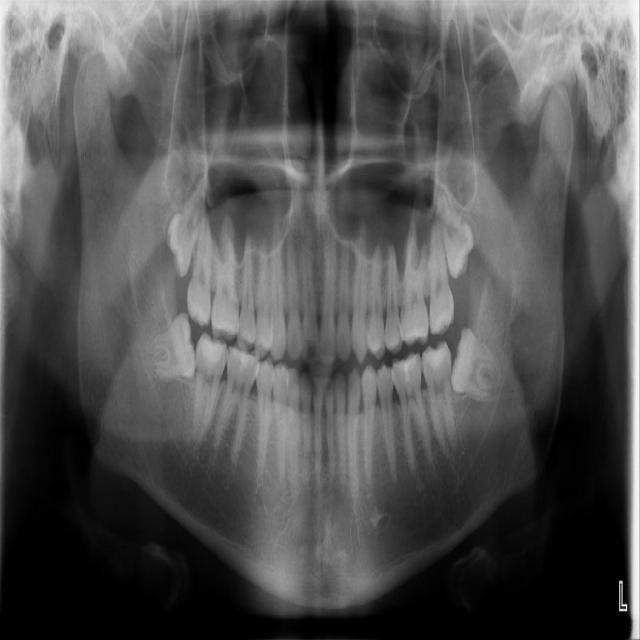Filling: (424, 343, 449, 373), (231, 350, 256, 377), (197, 336, 224, 361), (393, 357, 420, 380)
impacted tooth: (450, 326, 503, 399), (438, 182, 474, 277), (143, 315, 196, 378), (169, 178, 203, 276)
